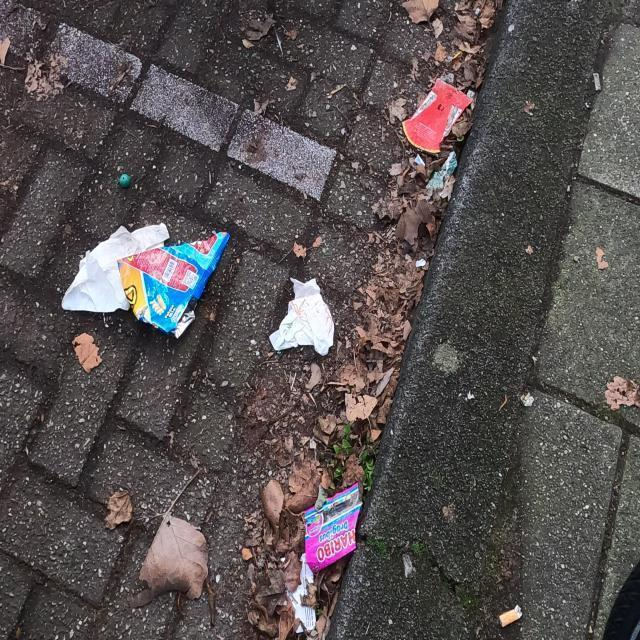Paper: (61, 224, 171, 312), (401, 76, 474, 154), (268, 276, 336, 358)
Plastic: (117, 230, 231, 341), (300, 479, 364, 574)
